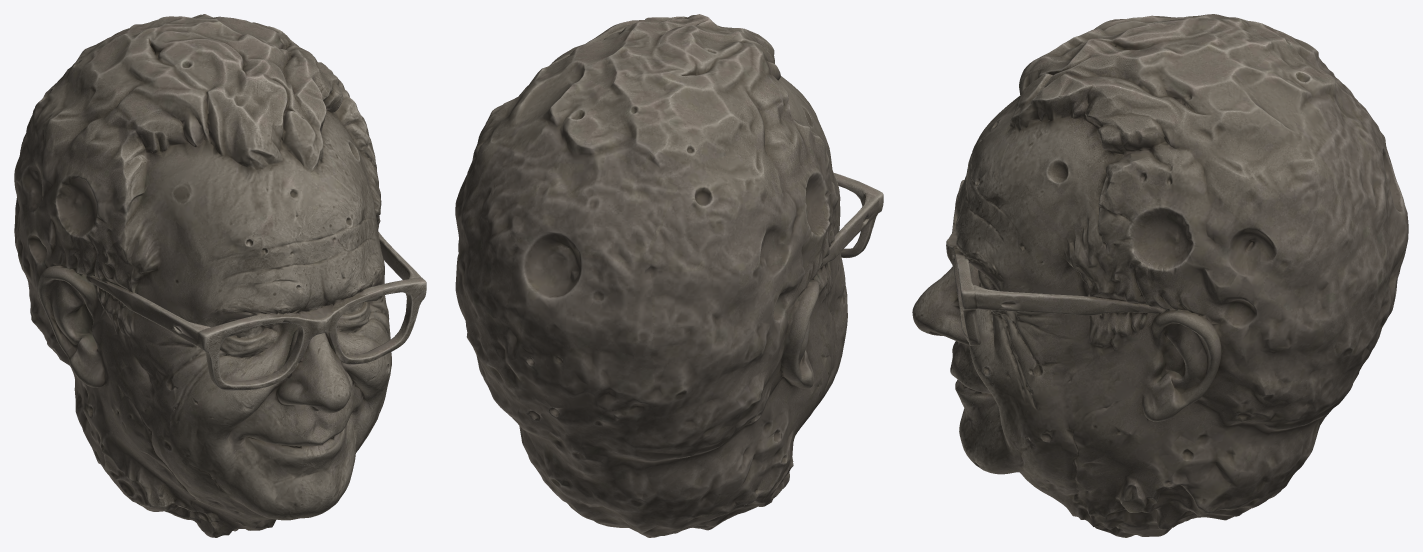
File: Norton.glb
3 renders of one model, left to right at view 1: azimuth 30°, elevation 25°; view 2: azimuth 150°, elevation 25°; view 3: azimuth 270°, elevation 25°, orthographic. The views are drawn at different scales.
Size of the model in its own units: 1.3 by 1.9 by 1.71.
1 material, 1 textured.
